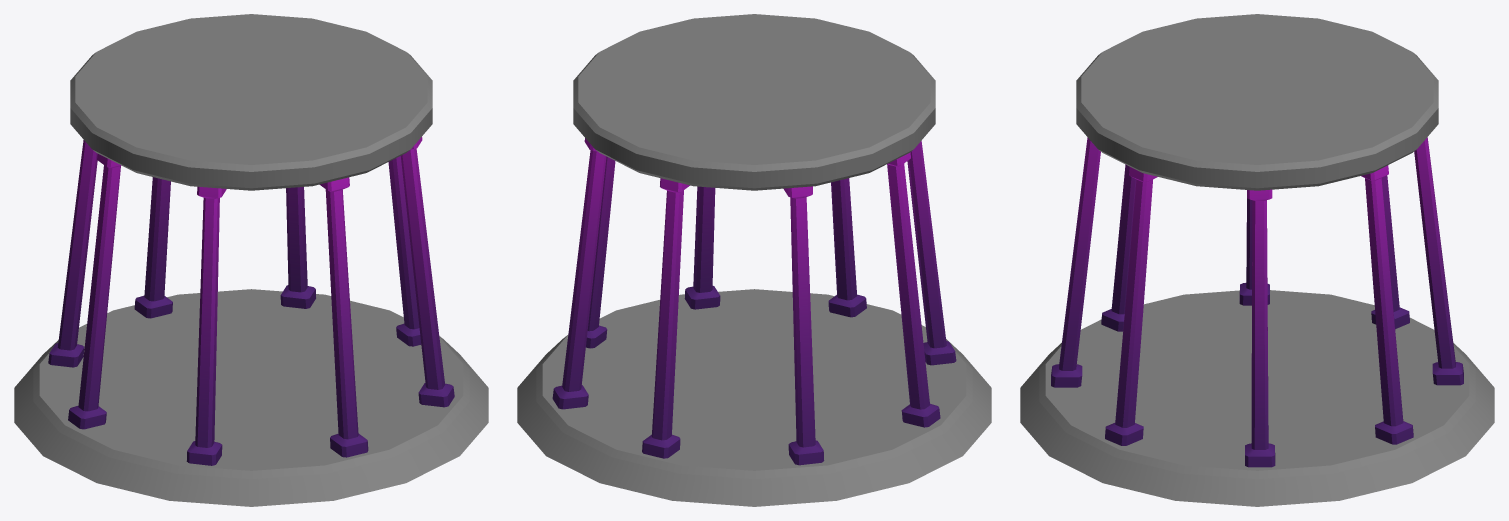
Rendered from RoundPlatform.fbx.
3 renders of one model, left to right at view 1: azimuth 30°, elevation 25°; view 2: azimuth 150°, elevation 25°; view 3: azimuth 270°, elevation 25°, orthographic.
Visible parts, largest first — view 1: RoundPlatform; view 2: RoundPlatform; view 3: RoundPlatform.
Part boxes in pixels (x1,y1,x2,y2): RoundPlatform: (14,14,488,506); RoundPlatform: (517,14,991,506); RoundPlatform: (1020,14,1494,506).
Bounding box in the file's own units: 1021 × 739 × 1006.
3 materials, 1 textured.
